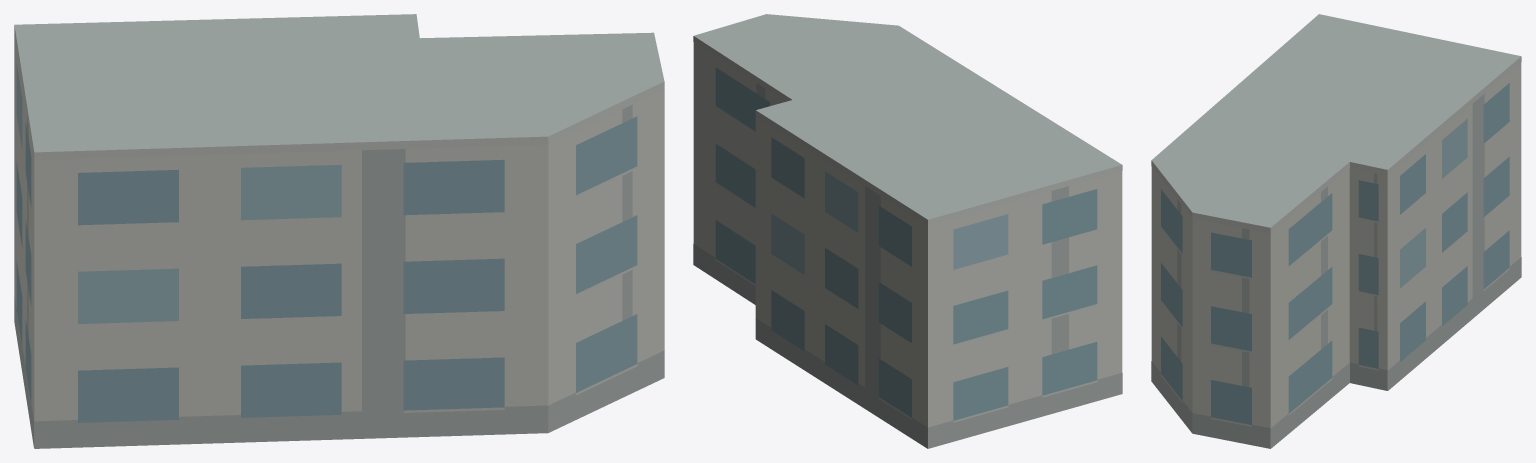
File: residential-1544514a-238d-41f3-81e9-ed48c99bcecf.glb
3 renders of one model, left to right at view 1: azimuth 30°, elevation 25°; view 2: azimuth 150°, elevation 25°; view 3: azimuth 270°, elevation 25°, orthographic. The views are drawn at different scales.
Visible parts, largest first — view 1: residential-1544514a-238d-41f3-81e9-ed48c99bcecf.tmp; view 2: residential-1544514a-238d-41f3-81e9-ed48c99bcecf.tmp; view 3: residential-1544514a-238d-41f3-81e9-ed48c99bcecf.tmp.
Boxes of the visible parts, x1,y1,x2,y2 form: residential-1544514a-238d-41f3-81e9-ed48c99bcecf.tmp: [14, 14, 664, 448]; residential-1544514a-238d-41f3-81e9-ed48c99bcecf.tmp: [693, 14, 1122, 448]; residential-1544514a-238d-41f3-81e9-ed48c99bcecf.tmp: [1151, 14, 1521, 448].
Size of the model in its own units: 18.67 by 9 by 13.66.
